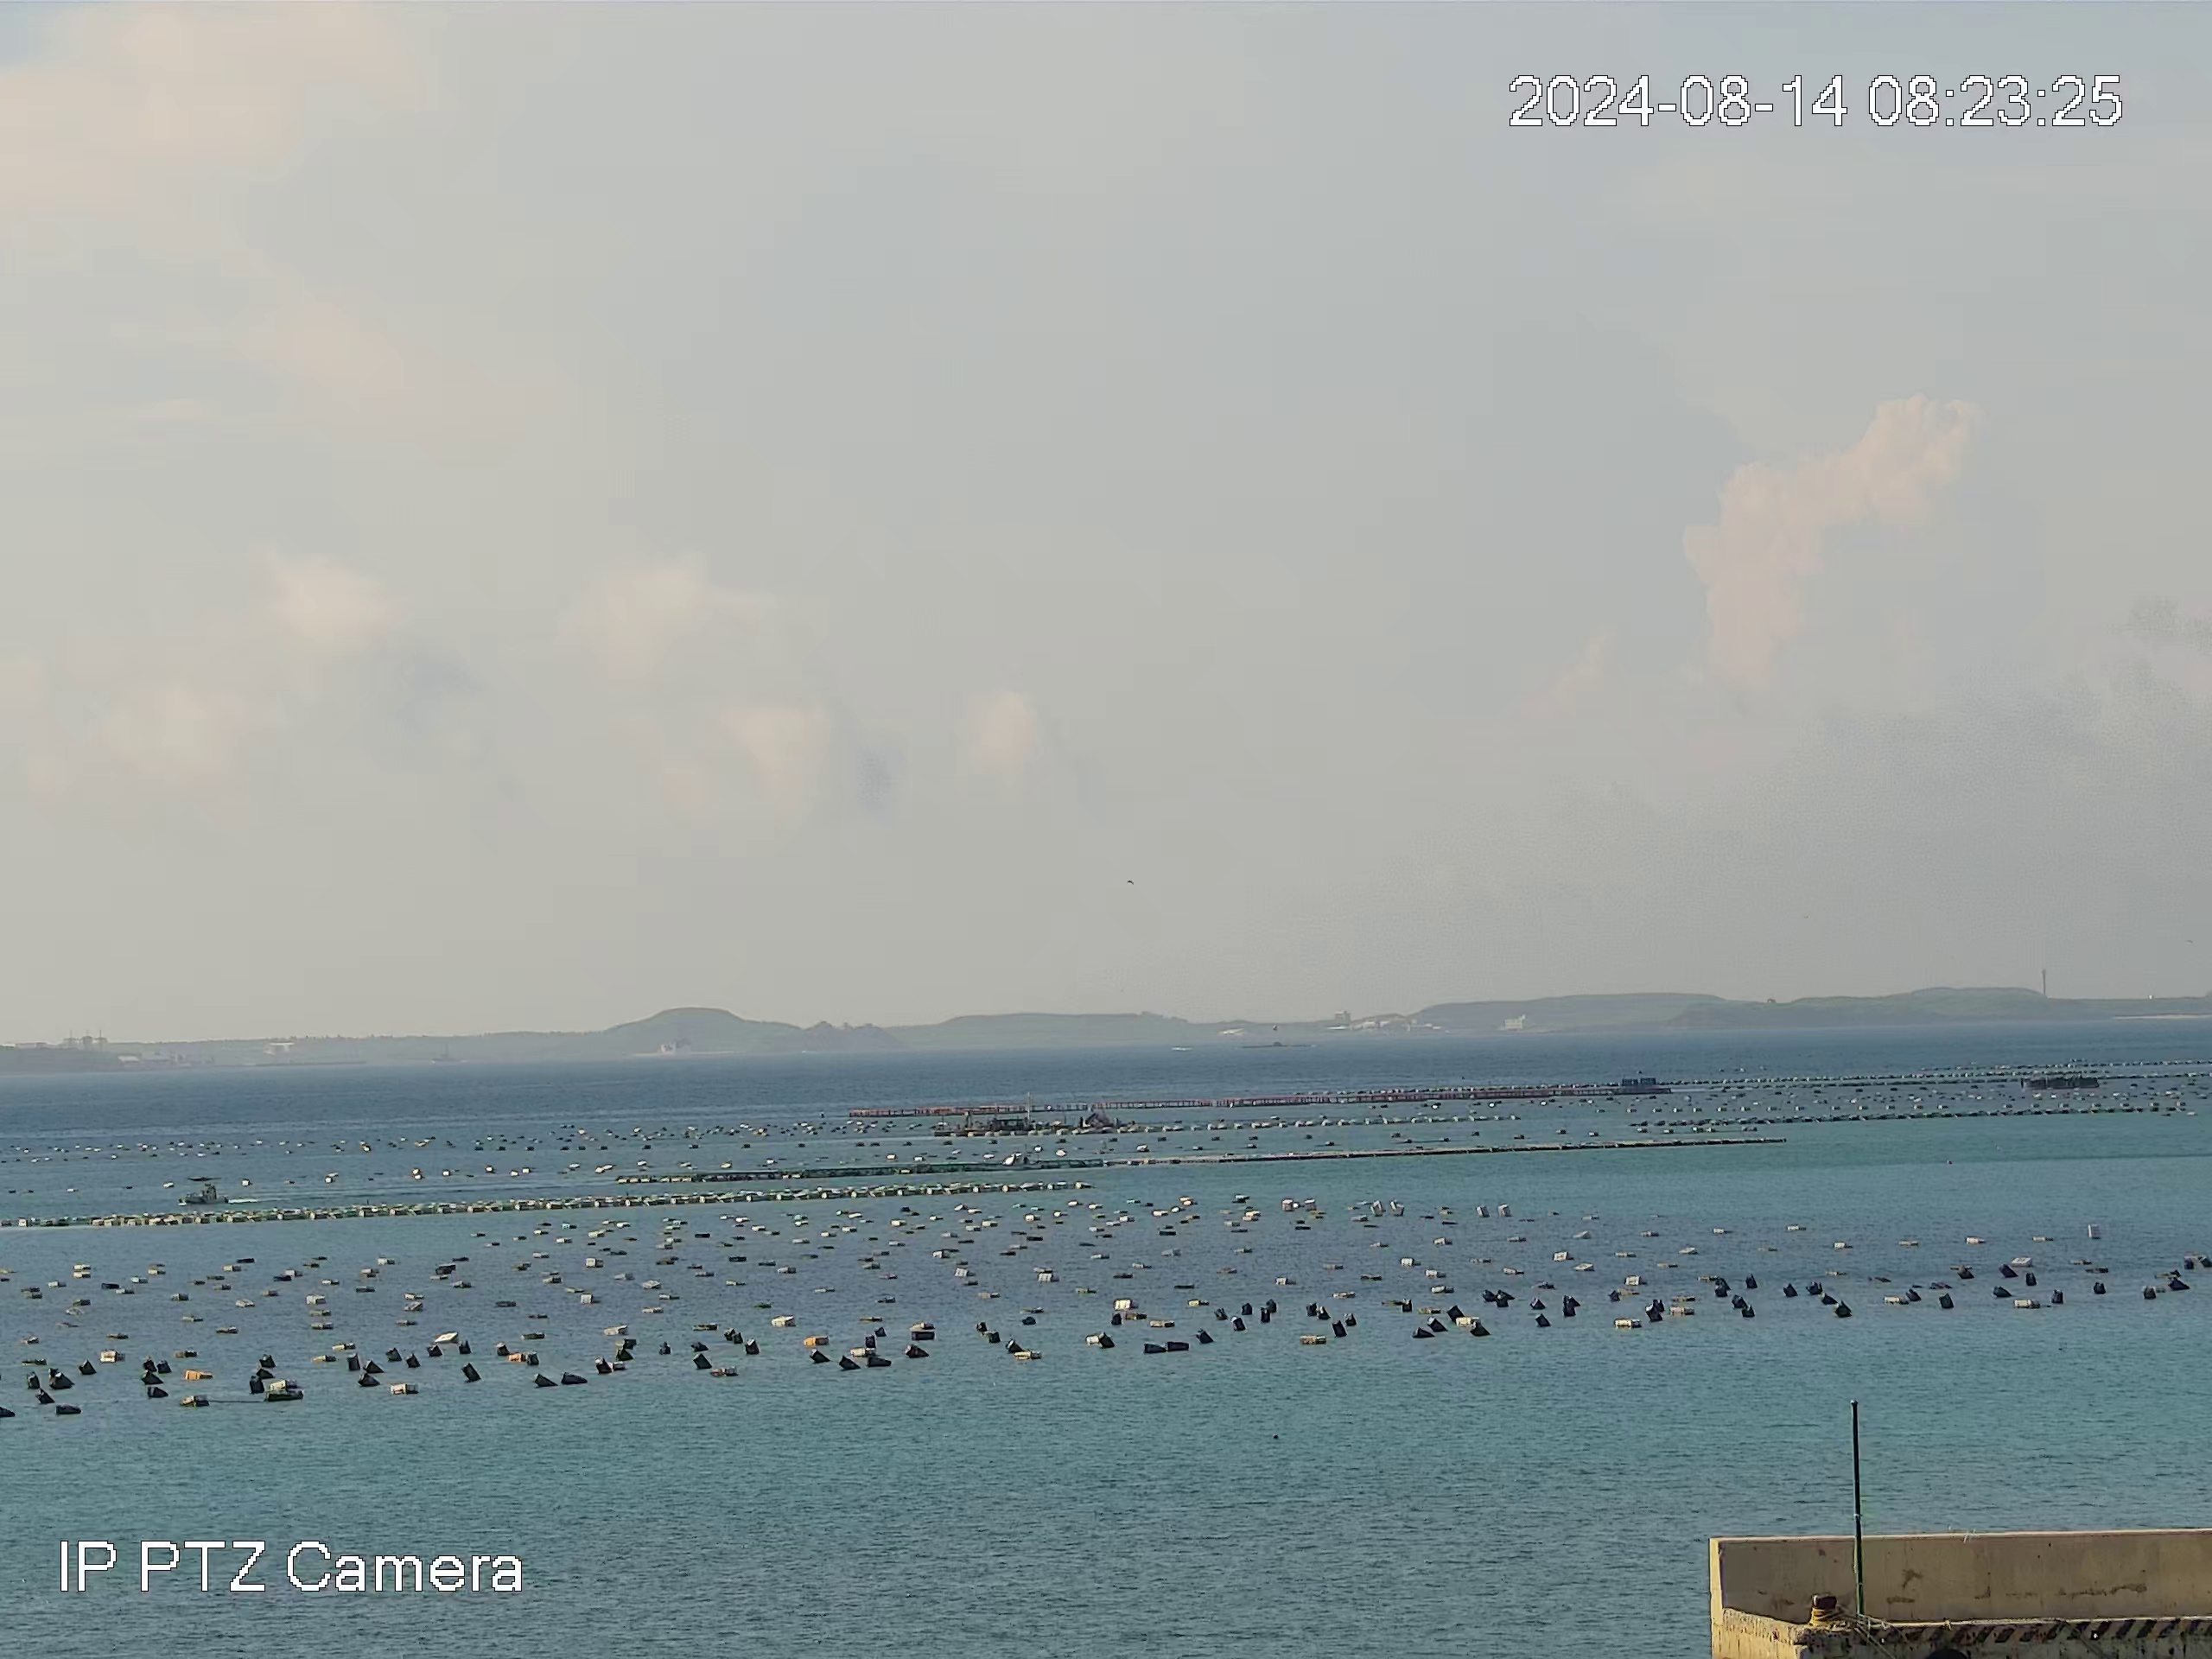boat: (2020, 1066, 2106, 1093)
